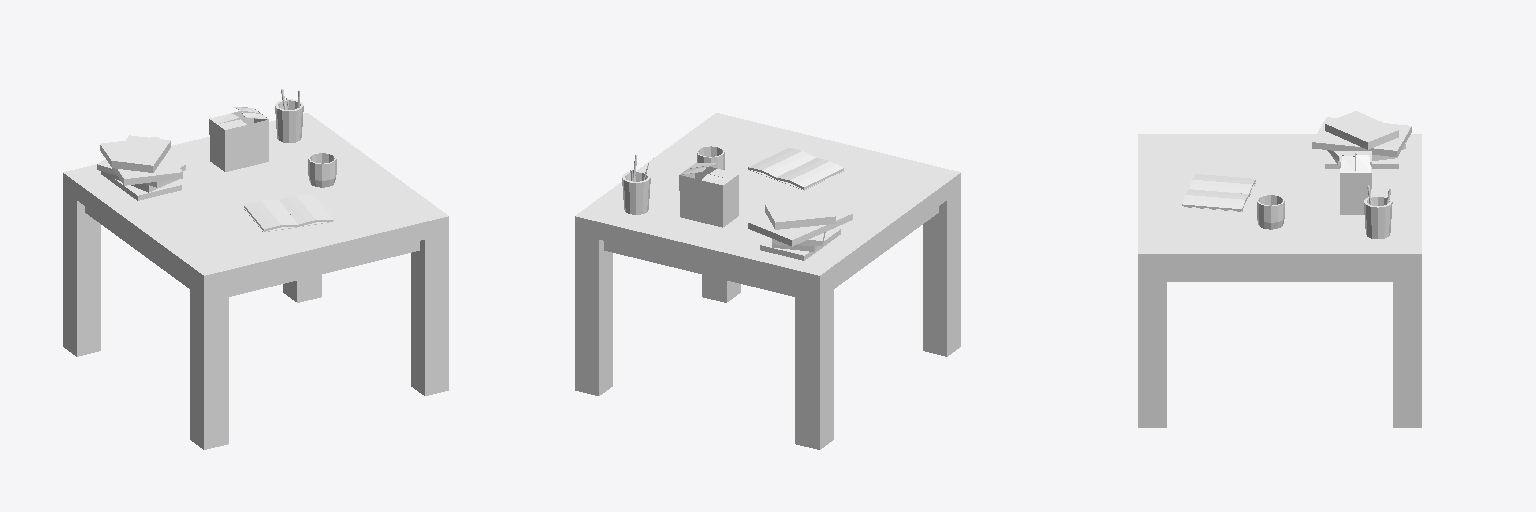
File: table.obj
The picture shows the model from 3 angles: view 1: azimuth 30°, elevation 25°; view 2: azimuth 150°, elevation 25°; view 3: azimuth 270°, elevation 25°; orthographic projection.
Parts seen in each view (by area): view 1: table; view 2: table; view 3: table.
Boxes of the visible parts, x1,y1,x2,y2 form: table: [63, 89, 448, 449]; table: [575, 113, 960, 449]; table: [1138, 111, 1421, 427].
Bounding box in the file's own units: 147 × 129 × 147.